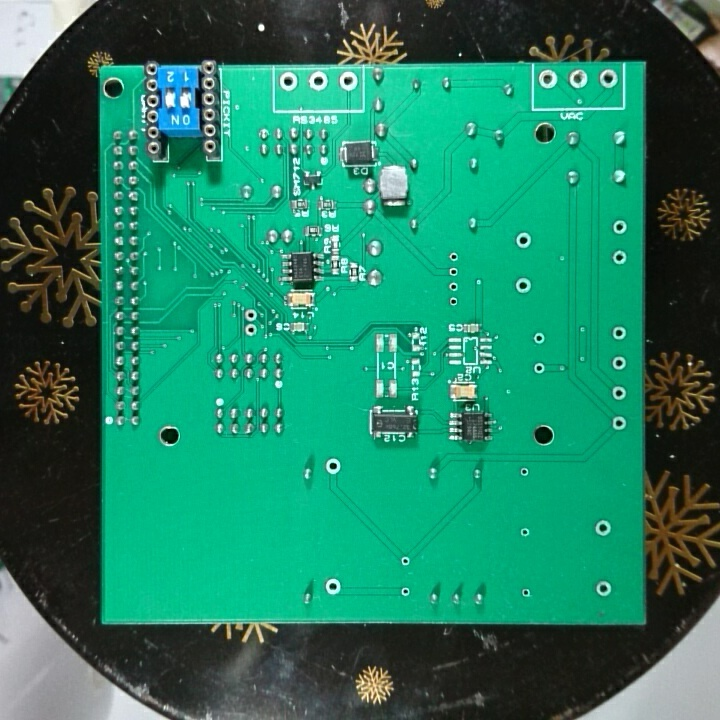F: (337, 69, 359, 95), (307, 70, 331, 93), (598, 65, 619, 91), (537, 68, 559, 92), (322, 455, 344, 478), (322, 576, 345, 598), (512, 229, 534, 252), (512, 275, 534, 298), (277, 70, 299, 93), (567, 68, 591, 89), (592, 515, 612, 540), (608, 247, 630, 268), (610, 216, 630, 238), (609, 322, 629, 343), (609, 414, 630, 432), (611, 353, 628, 375), (611, 383, 628, 403), (531, 358, 548, 378), (530, 330, 548, 348), (242, 321, 261, 338), (594, 578, 612, 595), (242, 307, 260, 323), (399, 584, 414, 601), (398, 552, 413, 569), (446, 279, 463, 294), (445, 249, 462, 264), (445, 293, 460, 309), (519, 586, 534, 601), (517, 525, 532, 540), (517, 465, 532, 480), (446, 264, 460, 279)
